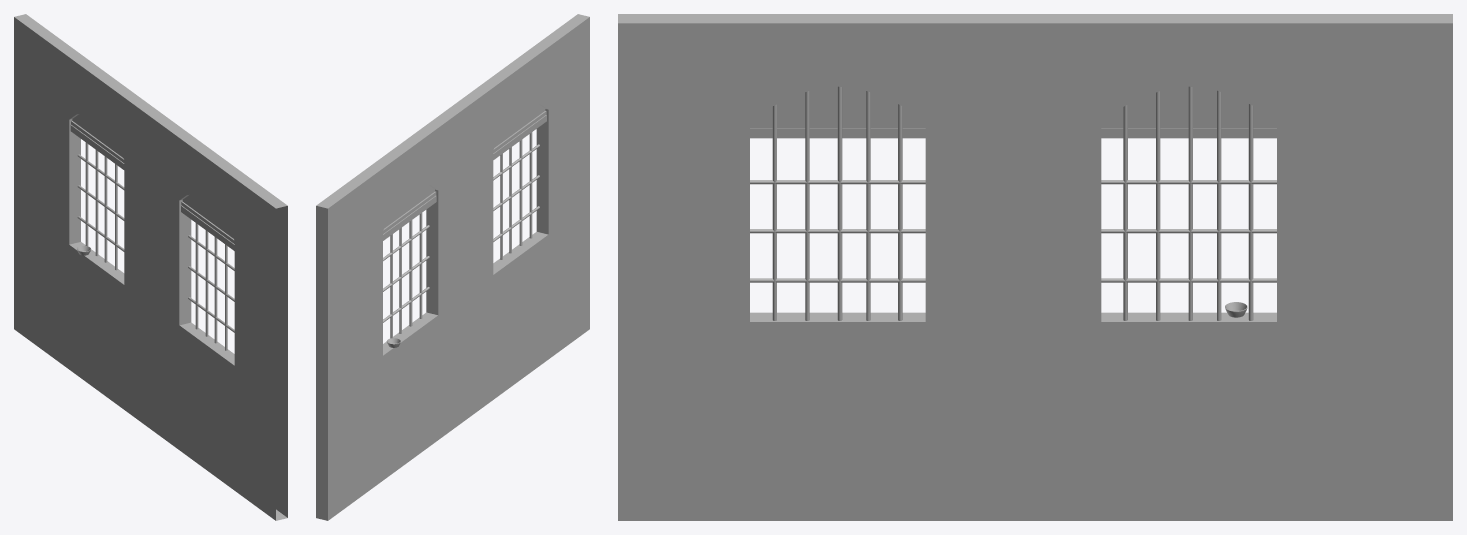
Rendered from wall window.fbx.
The picture shows the model from 3 angles, left to right: view 1: azimuth 30°, elevation 25°; view 2: azimuth 150°, elevation 25°; view 3: azimuth 270°, elevation 25°; orthographic projection. The views are drawn at different scales.
Parts seen in each view (by area): view 1: wall2, window_rebar, window_wood; view 2: wall2, window_rebar, window_wood; view 3: wall2, window_rebar, window_wood.
Part boxes in pixels (left/top/right/bottom): wall2: left=14, top=14, right=287, bottom=520; window_rebar: left=77, top=142, right=234, bottom=350; window_wood: left=70, top=113, right=234, bottom=250; wall2: left=316, top=14, right=589, bottom=520; window_rebar: left=383, top=132, right=539, bottom=338; window_wood: left=383, top=103, right=546, bottom=240; wall2: left=618, top=14, right=1452, bottom=520; window_rebar: left=750, top=86, right=1276, bottom=320; window_wood: left=750, top=86, right=1276, bottom=138.
Size of the model in its own units: 13.46 by 250 by 380.
